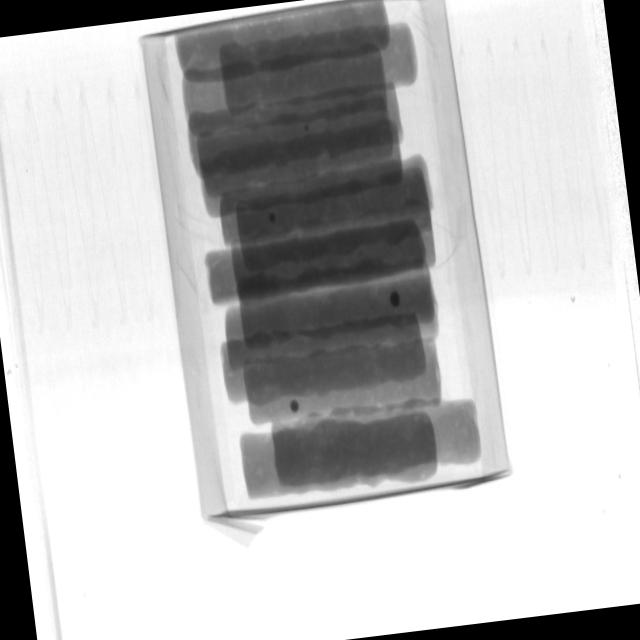ym: (389, 292, 402, 310), (290, 400, 300, 413), (270, 214, 277, 222), (303, 123, 310, 131)
